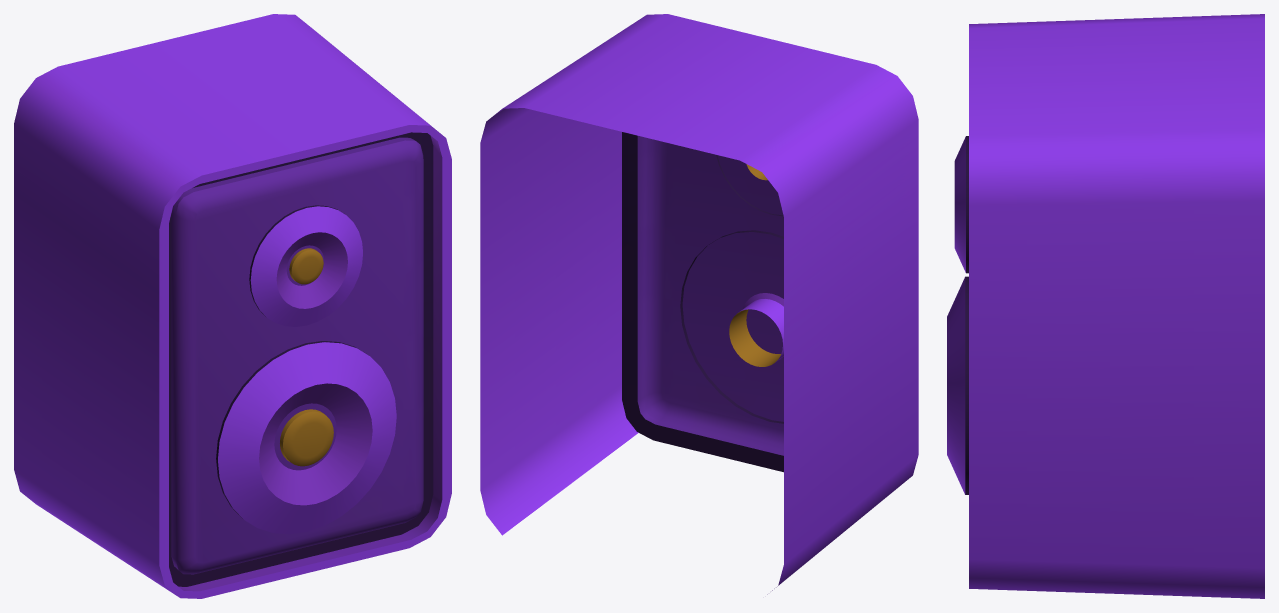
File: CaixadeSom.glb
3 renders of one model, left to right at view 1: azimuth 30°, elevation 25°; view 2: azimuth 150°, elevation 25°; view 3: azimuth 270°, elevation 25°, orthographic. The views are drawn at different scales.
Parts seen in each view (by area): view 1: CaixadeSom, FoneG, FoneP; view 2: CaixadeSom, FoneG; view 3: CaixadeSom, FoneG, FoneP.
Part boxes in pixels (left/top/right/bottom): CaixadeSom: left=14, top=14, right=451, bottom=598; FoneG: left=216, top=341, right=396, bottom=534; FoneP: left=249, top=205, right=362, bottom=326; CaixadeSom: left=480, top=14, right=918, bottom=594; FoneG: left=680, top=230, right=783, bottom=423; CaixadeSom: left=969, top=14, right=1264, bottom=598; FoneG: left=947, top=276, right=968, bottom=494; FoneP: left=954, top=136, right=968, bottom=273.
Bounding box in the file's own units: 1.61 × 2.19 × 1.38.
Materials: 1 (1 with a texture image).
